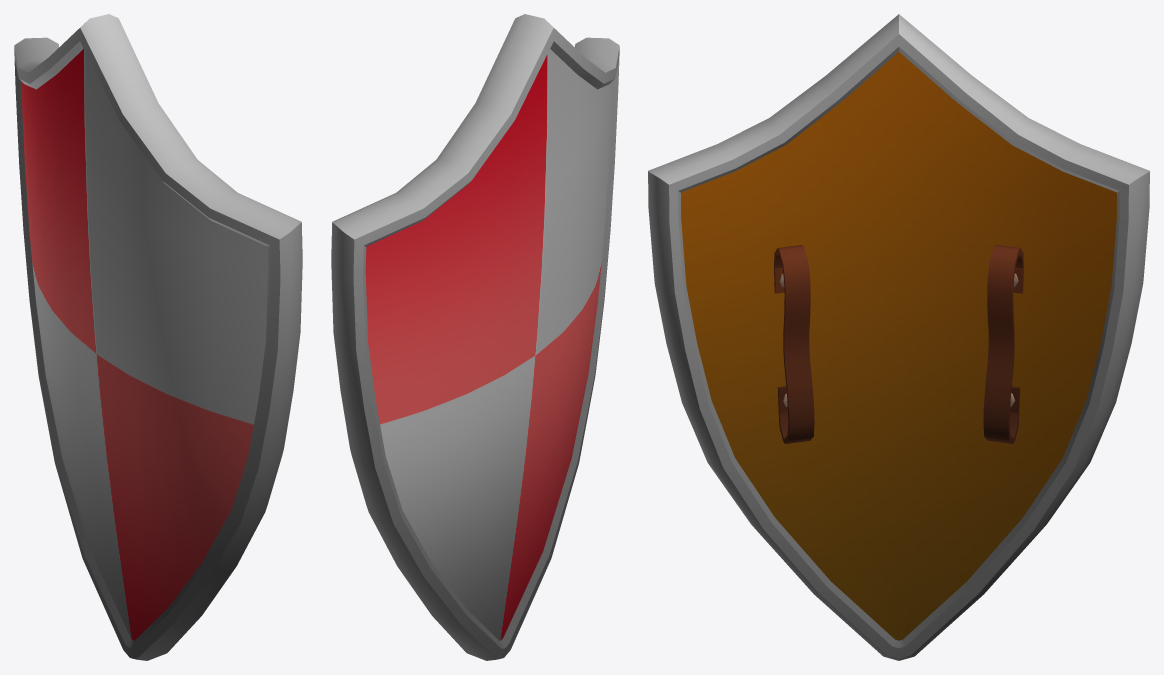
The model's file is shield.fbx.
3 renders of one model, left to right at view 1: azimuth 30°, elevation 25°; view 2: azimuth 150°, elevation 25°; view 3: azimuth 270°, elevation 25°, orthographic. The views are drawn at different scales.
Visible parts, largest first — view 1: Box003; view 2: Box003; view 3: Box003, Box007.
Part boxes in pixels (x1,y1,x2,y2): Box003: [14, 14, 302, 660]; Box003: [331, 14, 619, 660]; Box003: [648, 14, 1149, 660]; Box007: [774, 245, 1023, 443].
Bounding box in the file's own units: 10.72 × 65.54 × 48.27.
1 material, 1 textured.
